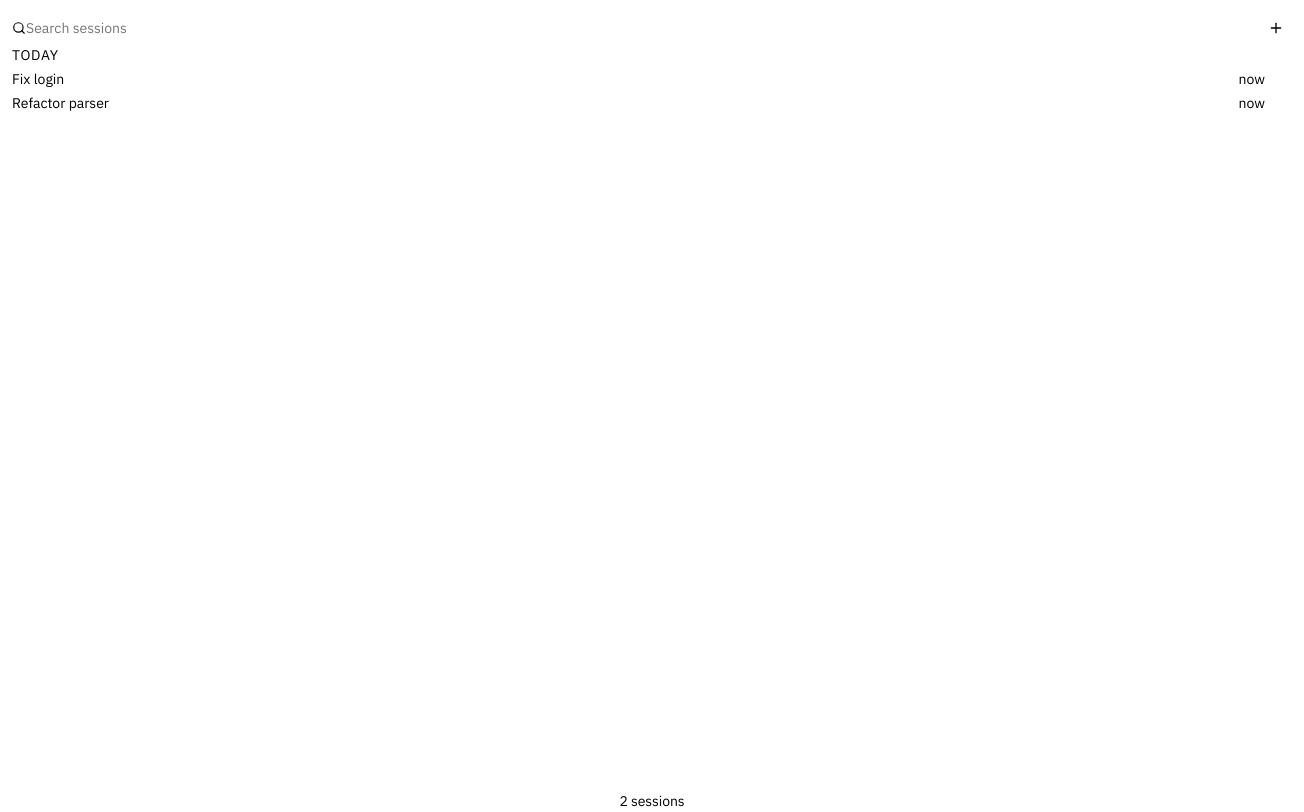
Test: SessionRail › filters by the search query (case-insensitive)
In the search field with test id "session-search": [643, 28] box x1=26 y1=17 x2=1260 y2=39, type "parser"
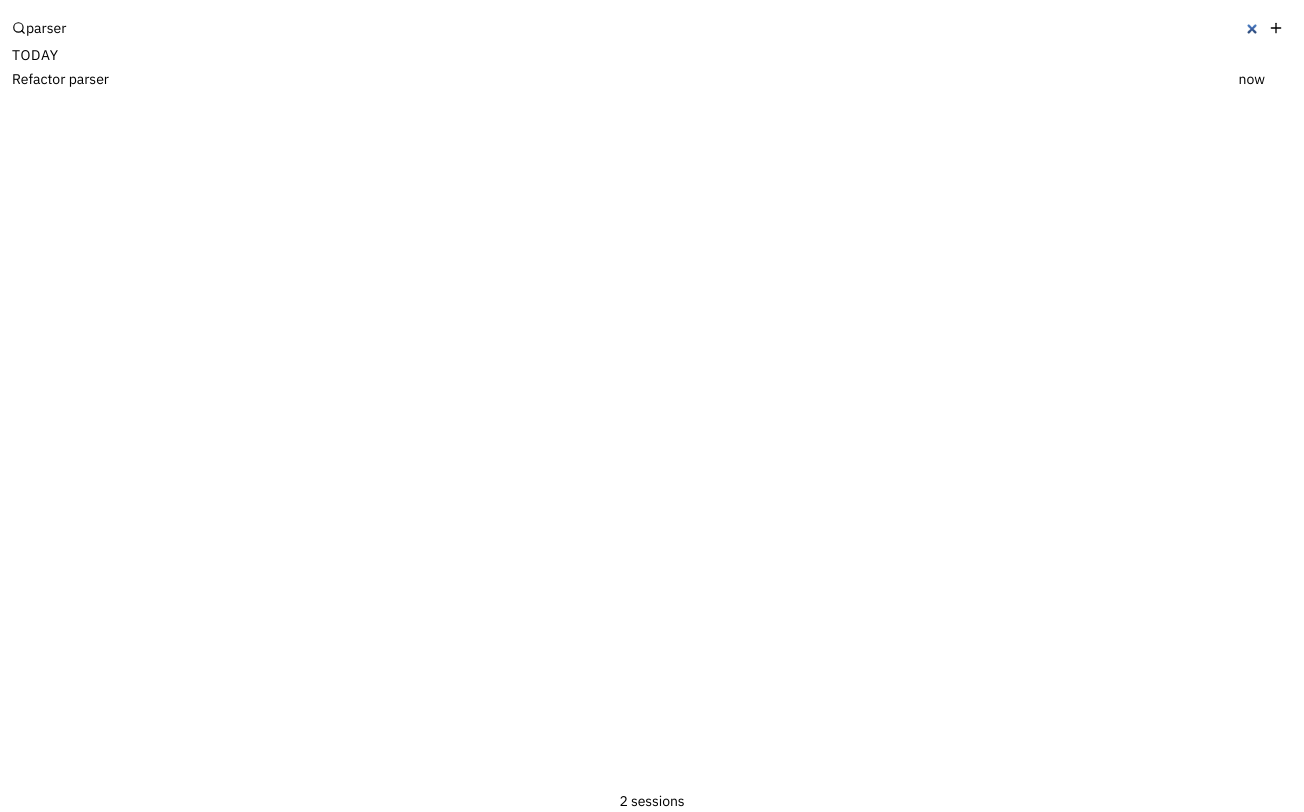
expect the text "Refactor parser" is shown: met, box x1=12 y1=70 x2=109 y2=88
expect the button "Fix login" is gone: met
